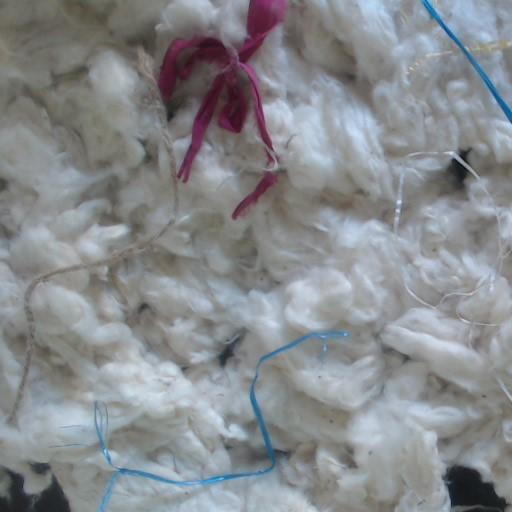cloth: (157, 0, 286, 181), (233, 175, 275, 217)
conveyor belt: (0, 470, 70, 511), (446, 465, 506, 511)
cotton: (435, 0, 511, 106)
jute: (9, 49, 178, 421)
thread: (99, 329, 347, 511), (421, 0, 511, 124), (403, 239, 505, 309), (405, 150, 479, 179), (405, 45, 458, 78), (392, 167, 409, 235), (94, 402, 111, 464), (456, 312, 499, 325), (468, 40, 510, 53), (497, 375, 511, 401)
